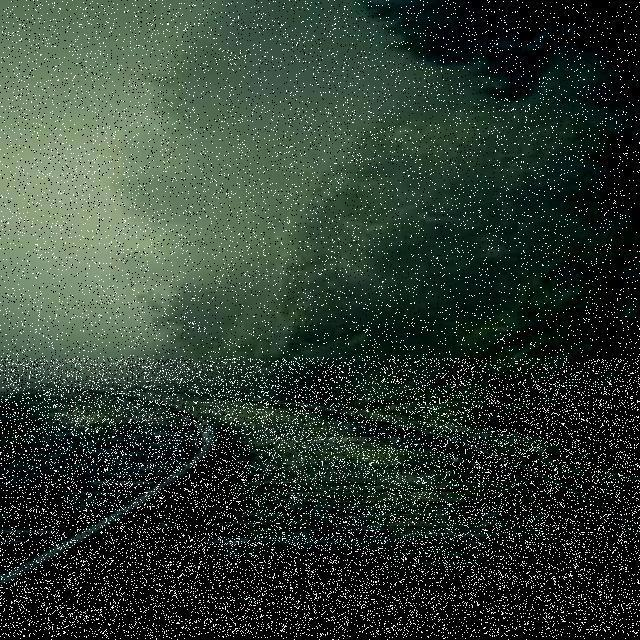rail: (0, 358, 640, 637)
